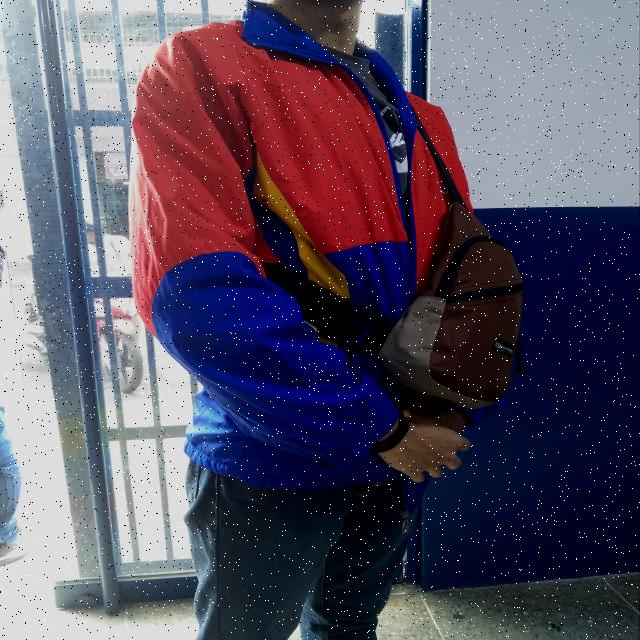chaqueta_unefa: (127, 0, 511, 513)
pantalon_oscuro: (184, 457, 410, 640)
